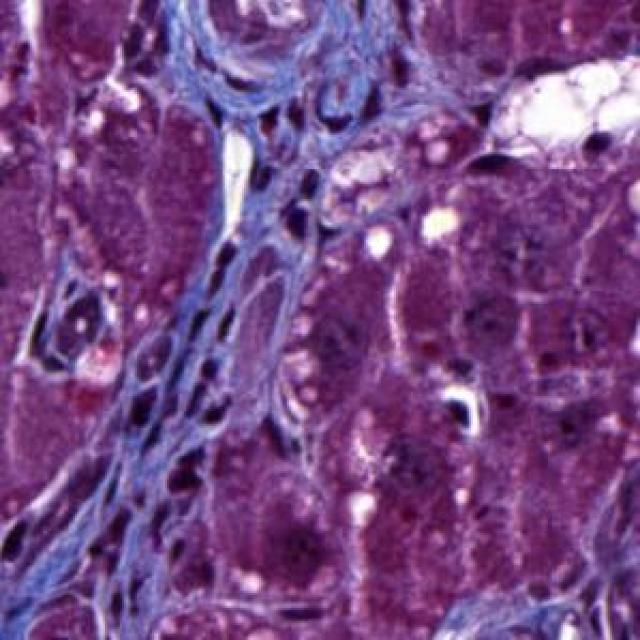ballooning: (486, 52, 636, 172)
